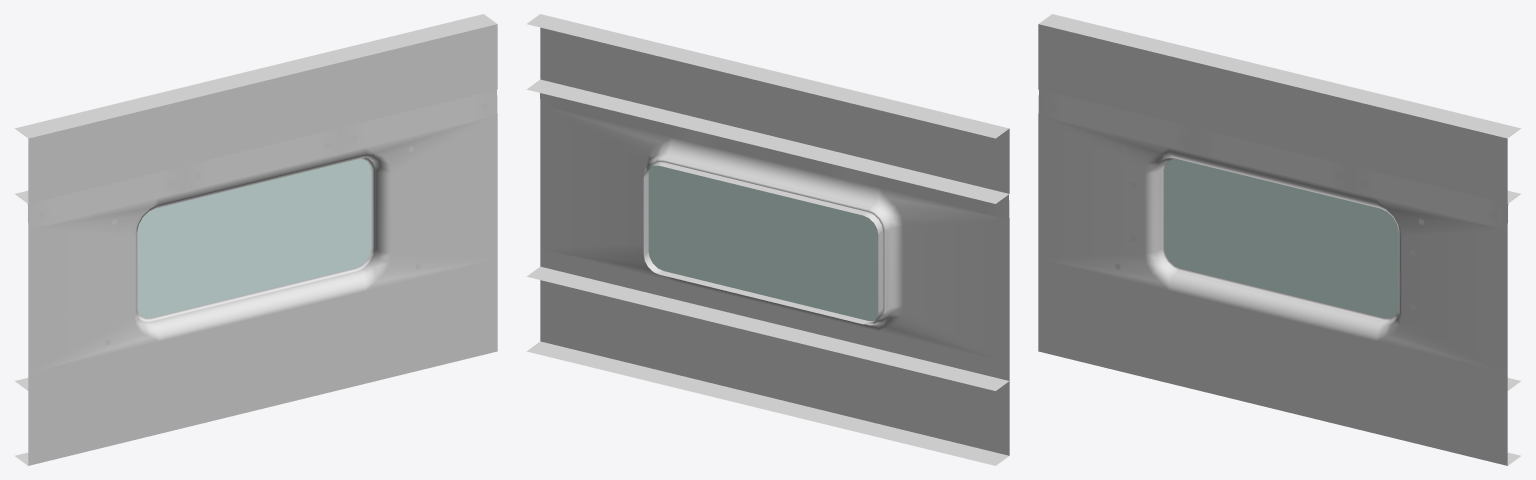
File: SM_Window_AC.fbx
3 views of the same model, side by side, from view 1: azimuth 30°, elevation 25°; view 2: azimuth 150°, elevation 25°; view 3: azimuth 330°, elevation 25° (orthographic).
Parts seen in each view (by area): view 1: SM_Window_AC; view 2: SM_Window_AC; view 3: SM_Window_AC.
Part boxes in pixels (x1,y1,x2,y2): SM_Window_AC: (14,14,497,465); SM_Window_AC: (526,14,1009,465); SM_Window_AC: (1038,14,1521,465).
Size of the model in its own units: 300 by 15.58 by 200.
